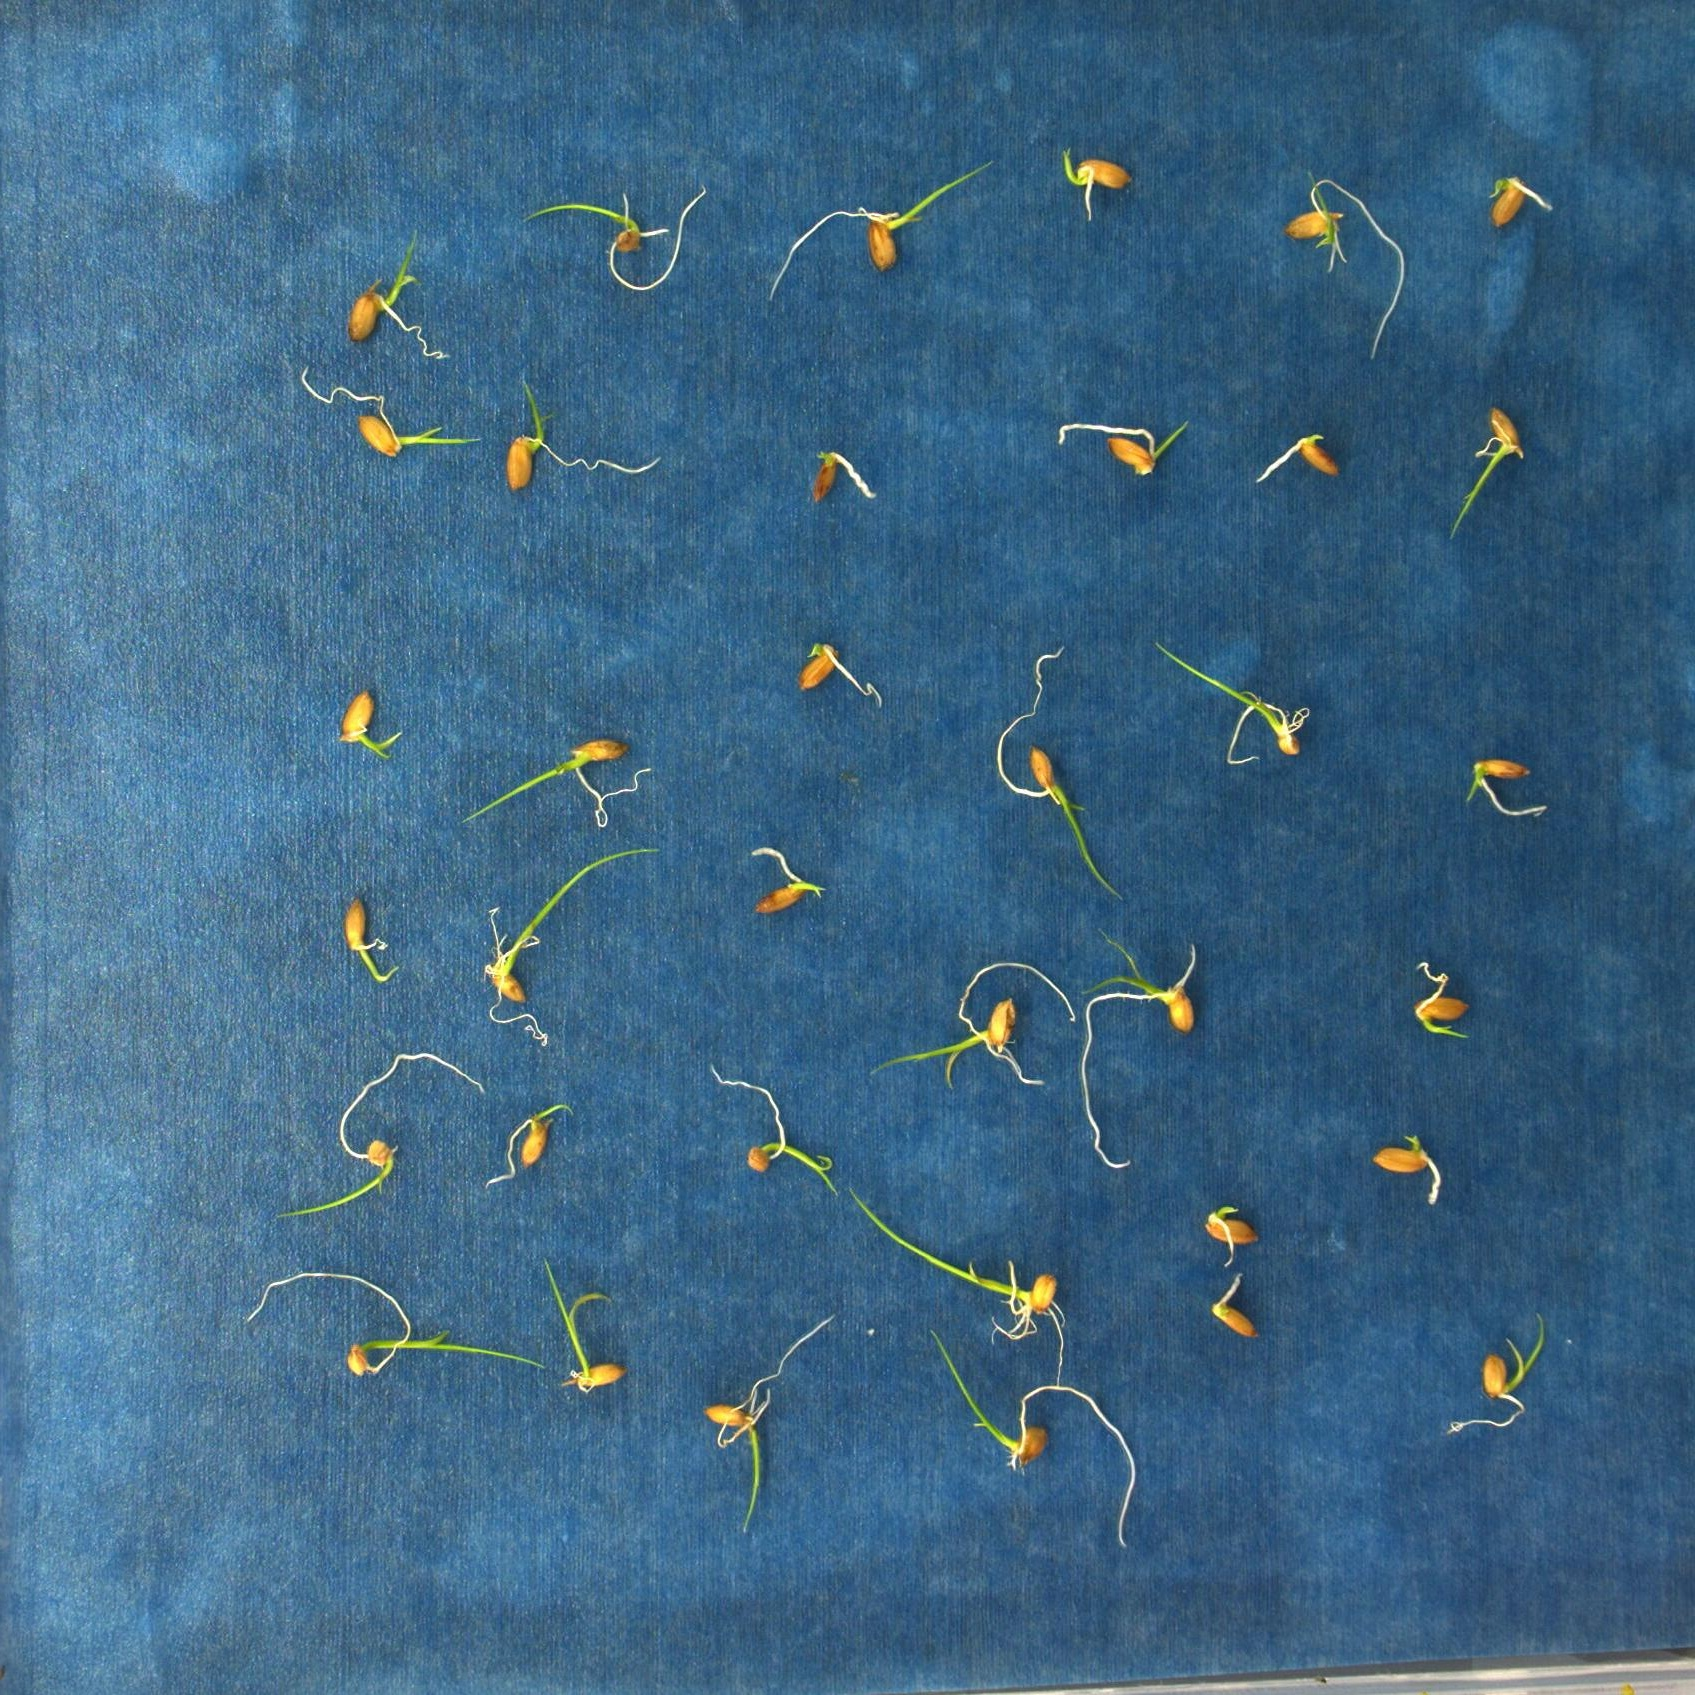not sprout: (1360, 1132, 1458, 1211), (1402, 956, 1479, 1052), (742, 844, 835, 920), (796, 636, 886, 712), (1242, 428, 1355, 487), (1197, 1271, 1273, 1343), (804, 439, 875, 512)
sprout: (855, 1177, 1073, 1403), (933, 1327, 1146, 1555), (753, 151, 1009, 309), (233, 1265, 549, 1391), (475, 838, 655, 1052), (987, 641, 1127, 903), (286, 1048, 483, 1222), (1076, 917, 1208, 1177), (703, 1302, 837, 1538), (857, 958, 1077, 1094), (1277, 157, 1412, 365), (522, 179, 719, 301), (500, 365, 660, 509), (455, 730, 660, 837), (1153, 638, 1313, 775), (298, 366, 486, 477), (331, 225, 456, 366), (711, 1060, 837, 1200), (1436, 394, 1535, 560), (1440, 1305, 1549, 1436), (532, 1260, 629, 1402), (1052, 407, 1194, 478), (489, 1090, 587, 1192), (326, 885, 402, 990), (1458, 745, 1557, 826), (1055, 141, 1142, 220), (335, 678, 407, 767), (1198, 1201, 1271, 1271), (1487, 168, 1560, 234)
